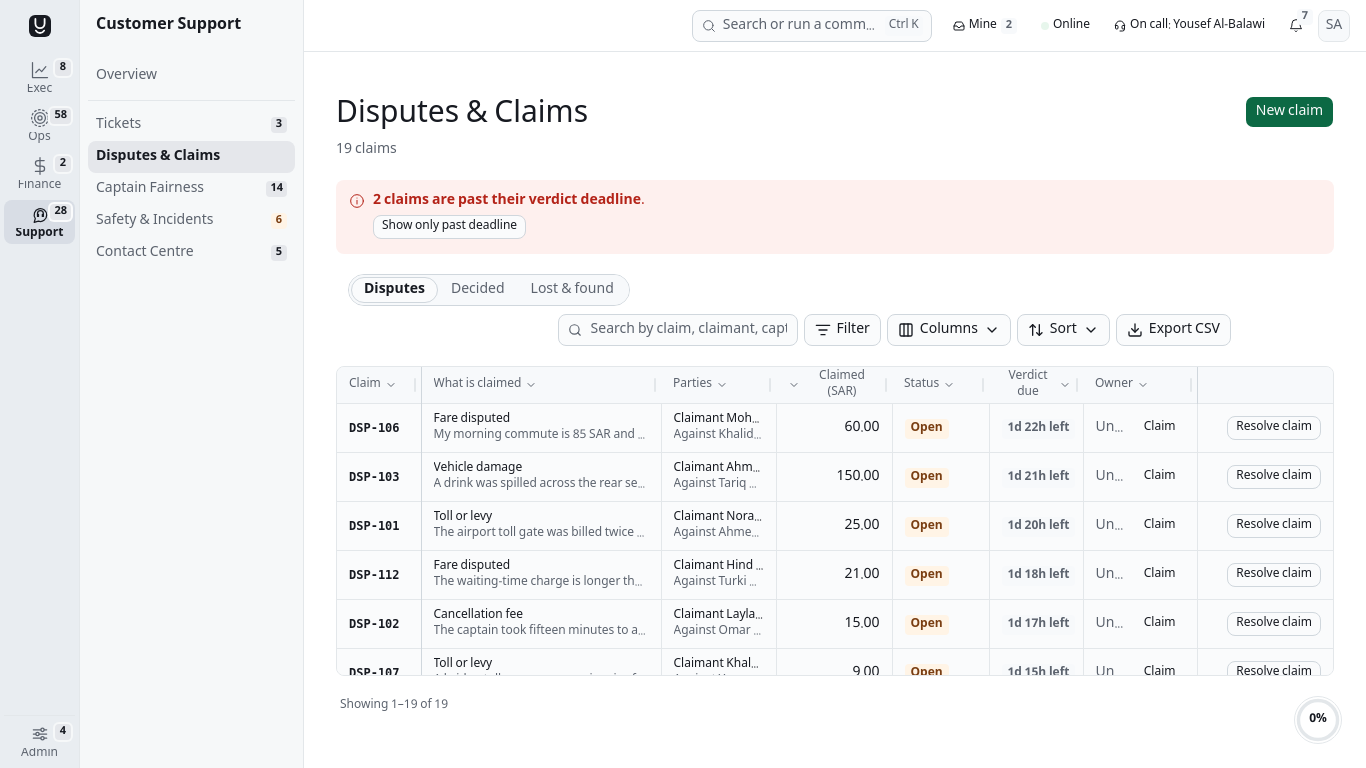
Test: the four states › renders a first-run empty state when the query matches nothing
Expected: the link "DSP-101" is shown, [349,518,400,534]
Type "a claim nobody ever filed" into the field with placeholder "Search by claim, claimant, captain, trip or ID" at x=678, y=330, box [558,314,798,346]
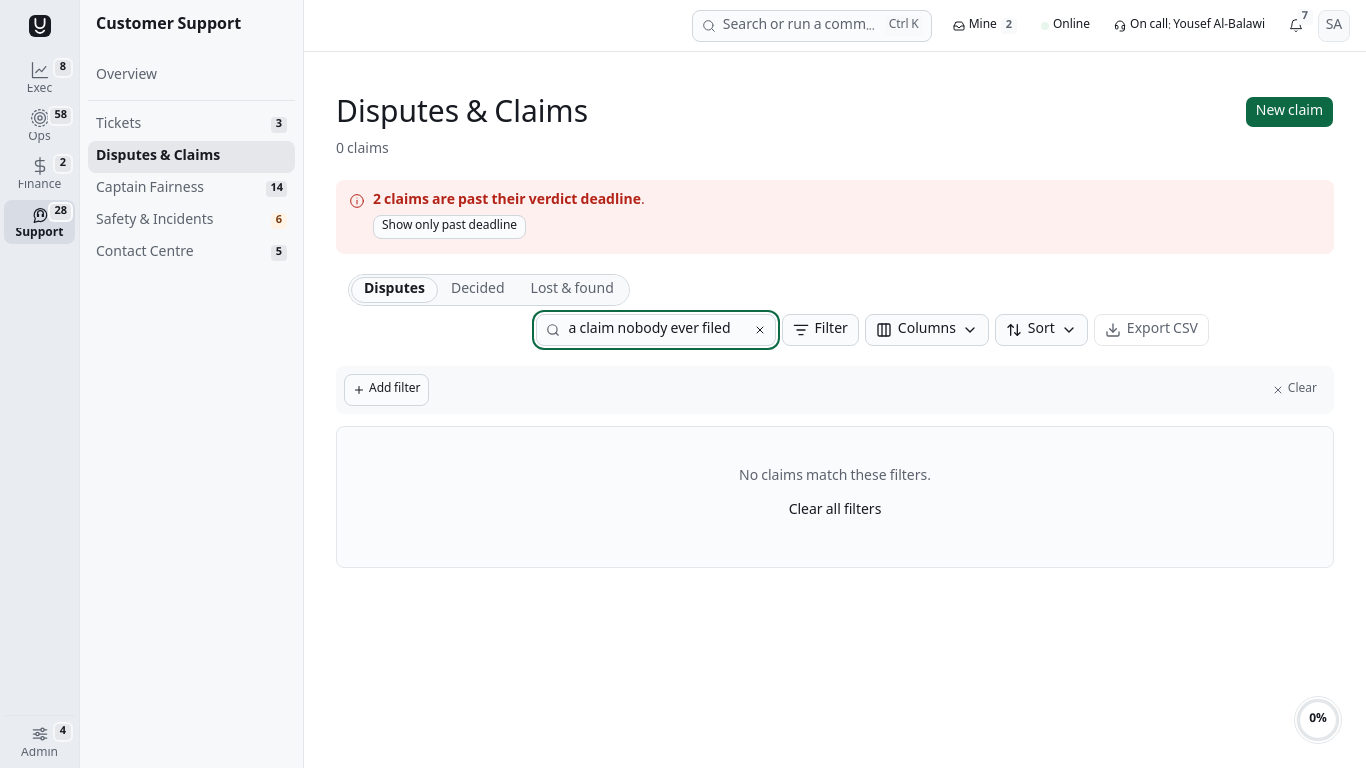
Now the text "No claims match these filters." is shown, box [739,467,931,487]
